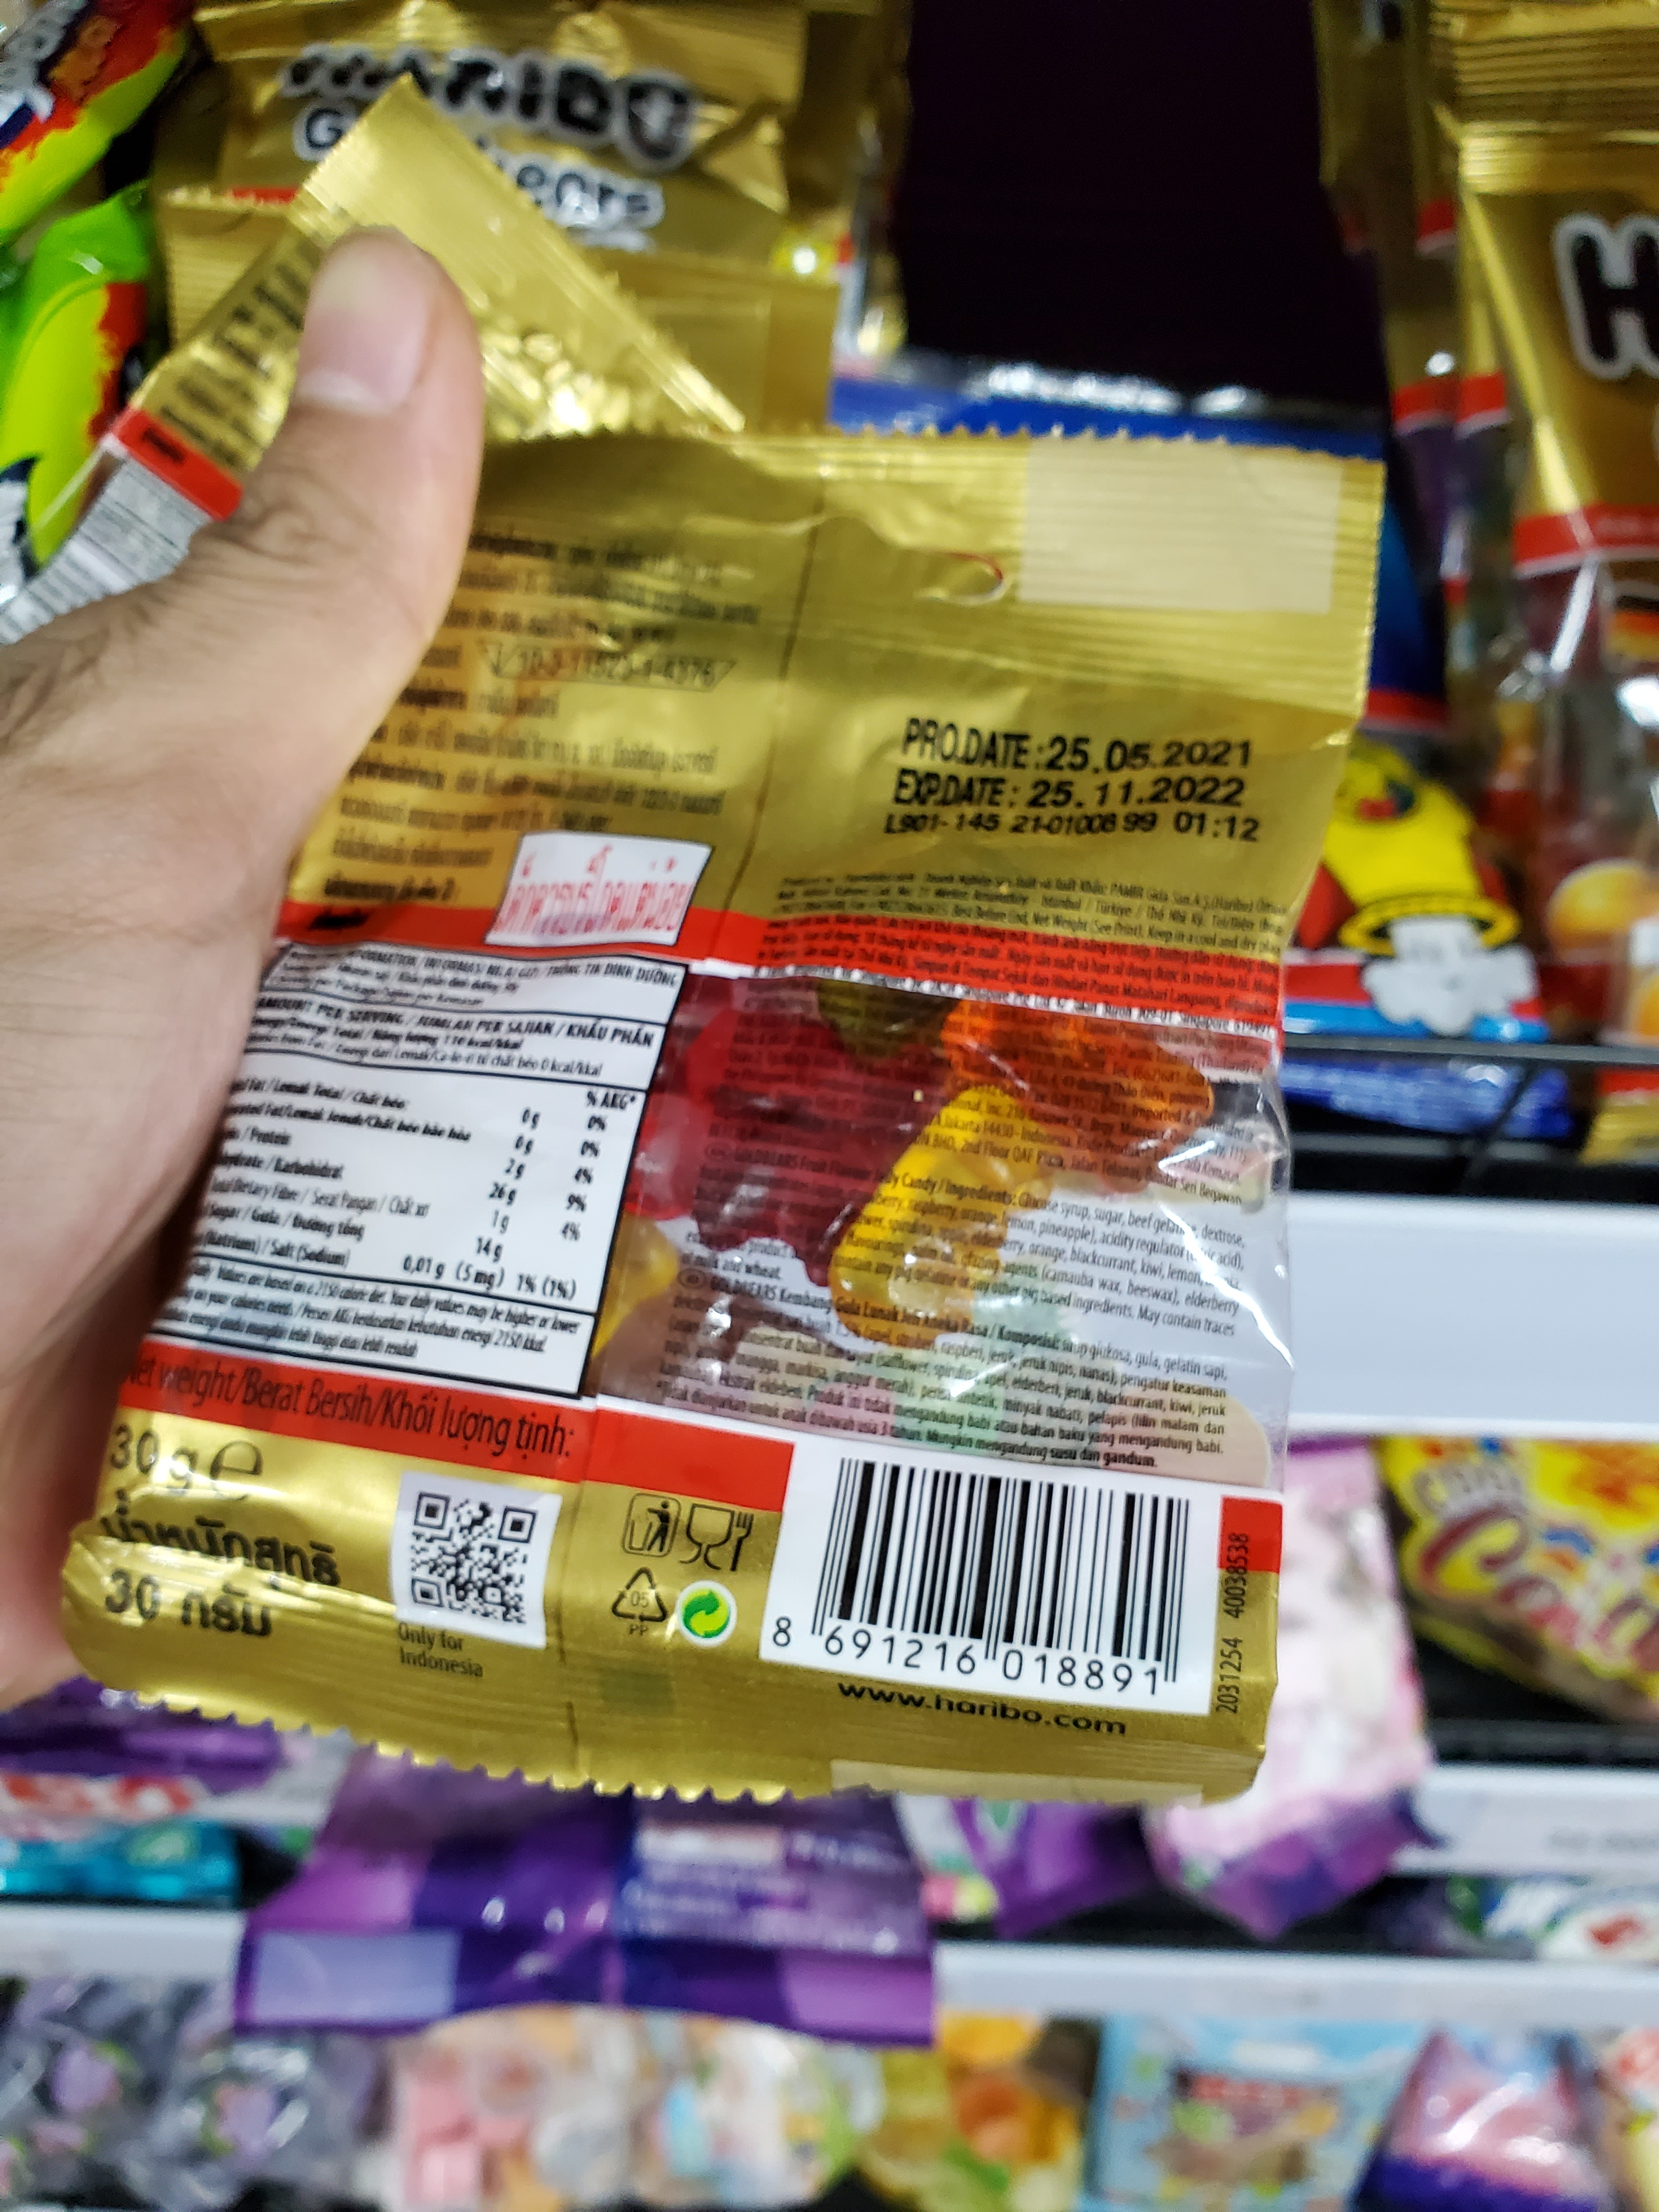barcode: (753, 1446, 1216, 1710)
qr code: (380, 1487, 549, 1656)
